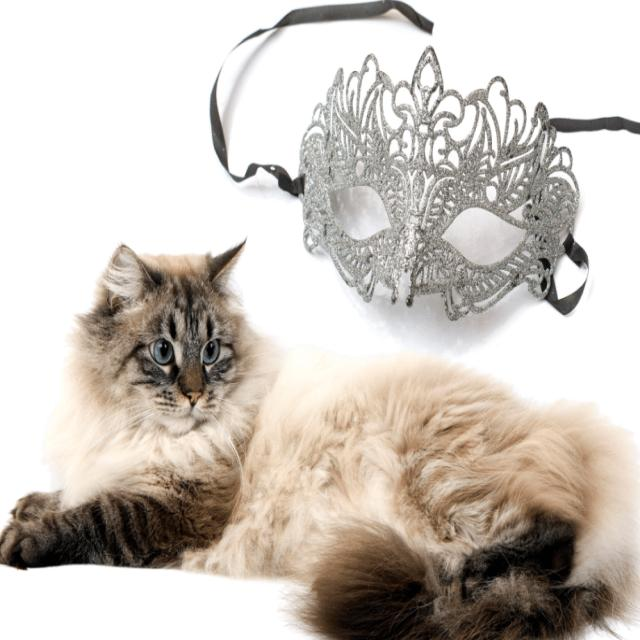Neva Masquerade: (0, 231, 640, 640)
